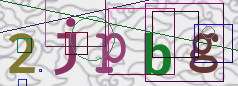2: (7, 31, 36, 74)
b: (142, 31, 171, 77)
g: (188, 32, 220, 74)
j: (53, 16, 78, 77)
p: (95, 31, 127, 75)
